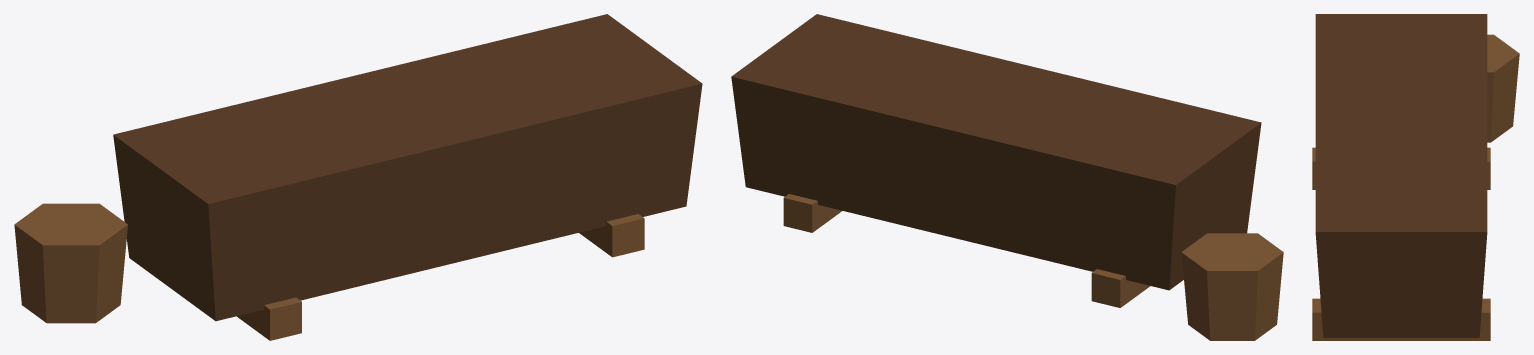
Rendered from PR_Trough.fbx.
The picture shows the model from 3 angles, left to right: view 1: azimuth 30°, elevation 25°; view 2: azimuth 150°, elevation 25°; view 3: azimuth 270°, elevation 25°; orthographic projection. The views are drawn at different scales.
Parts seen in each view (by area): view 1: PR_Trough; view 2: PR_Trough; view 3: PR_Trough.
Boxes of the visible parts, box(x1,y1,x2,y2) form: PR_Trough: box(14, 14, 702, 340); PR_Trough: box(731, 14, 1283, 340); PR_Trough: box(1312, 14, 1519, 340).
Bounding box in the file's own units: 2.75 × 0.93 × 0.67.
